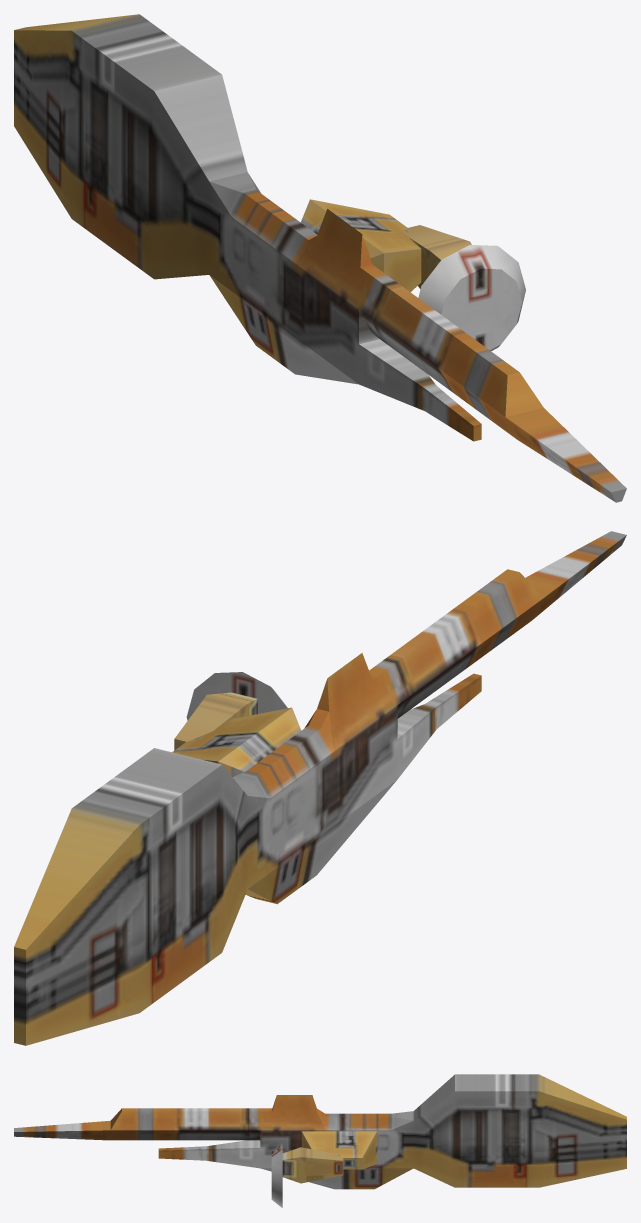
File: sensor_hgn_m_02_t1.glb
3 renders of one model, top to bottom at view 1: azimuth 30°, elevation 25°; view 2: azimuth 150°, elevation 25°; view 3: azimuth 270°, elevation 25°, orthographic. The views are drawn at different scales.
Parts seen in each view (by area): view 1: sensor_m_02_LOD0; view 2: sensor_m_02_LOD0; view 3: sensor_m_02_LOD0.
Boxes of the visible parts, <box> form: sensor_m_02_LOD0: <box>14,14,626,502</box>; sensor_m_02_LOD0: <box>14,531,626,1045</box>; sensor_m_02_LOD0: <box>14,1074,626,1207</box>.
Size of the model in its own units: 0.4787 by 0.4553 by 2.44.
1 material, 1 textured.
